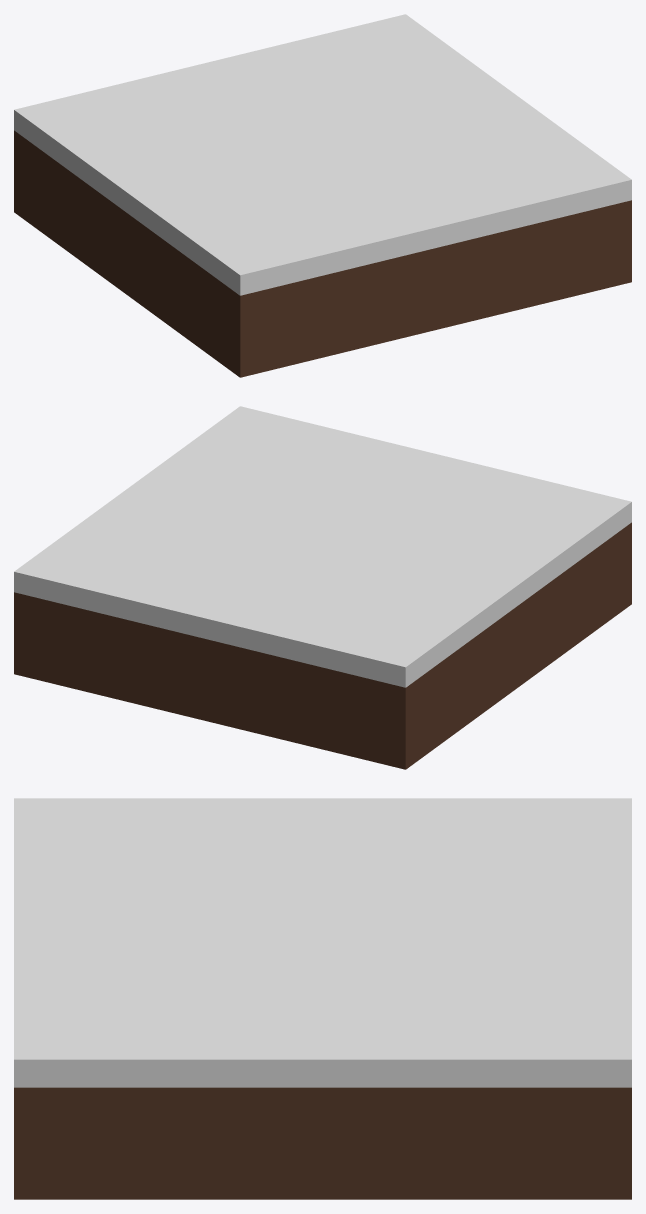
The model's file is cave_fltngplatform_small 1.fbx.
3 views of the same model, one above another, from view 1: azimuth 30°, elevation 25°; view 2: azimuth 150°, elevation 25°; view 3: azimuth 270°, elevation 25° (orthographic). The views are drawn at different scales.
Parts seen in each view (by area): view 1: Cube; view 2: Cube; view 3: Cube.
Boxes of the visible parts, left/top/right/bottom form: Cube: left=14, top=14, right=631, bottom=377; Cube: left=14, top=406, right=631, bottom=769; Cube: left=14, top=798, right=631, bottom=1199.
Bounding box in the file's own units: 200 × 50 × 200.
